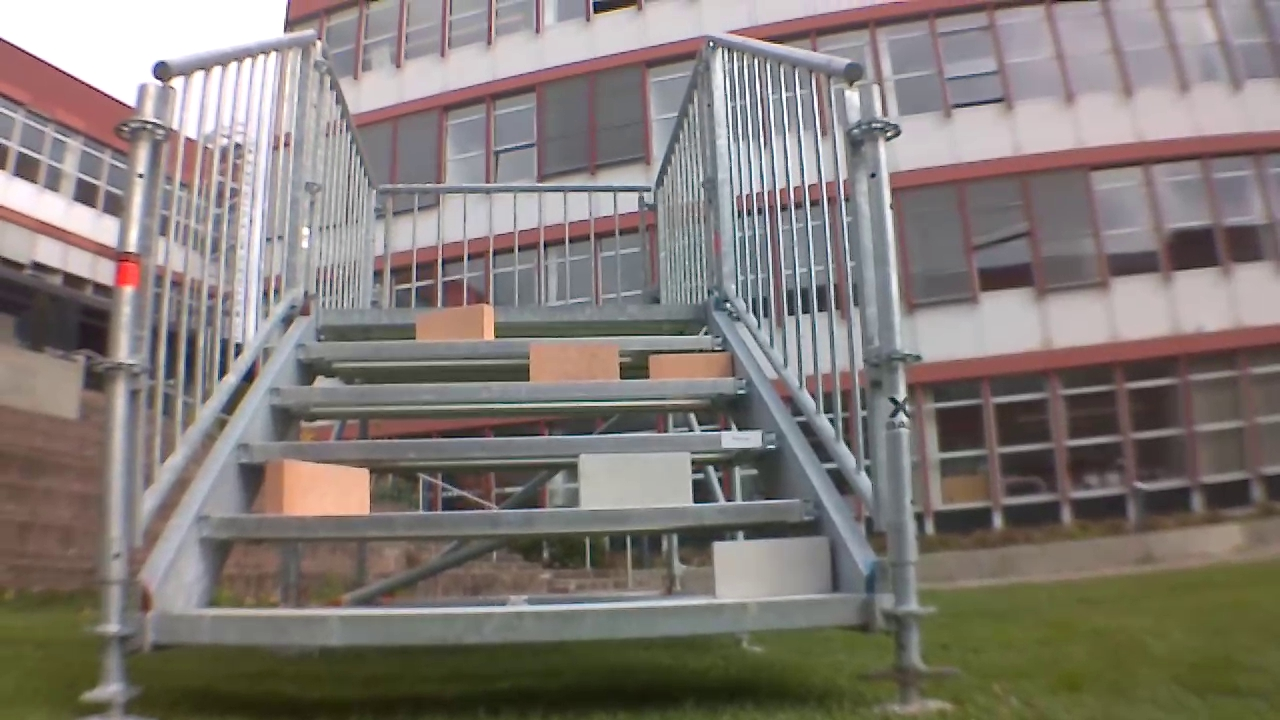brick: (713, 539, 830, 599), (578, 454, 691, 506), (264, 459, 368, 513), (531, 342, 617, 379), (415, 304, 495, 341), (649, 352, 728, 377)
edge: (152, 597, 872, 645), (198, 498, 816, 535), (236, 431, 781, 455), (270, 378, 747, 403), (295, 334, 723, 358), (317, 302, 710, 324)
stairs: (79, 28, 955, 717)
steps: (145, 299, 875, 654)
